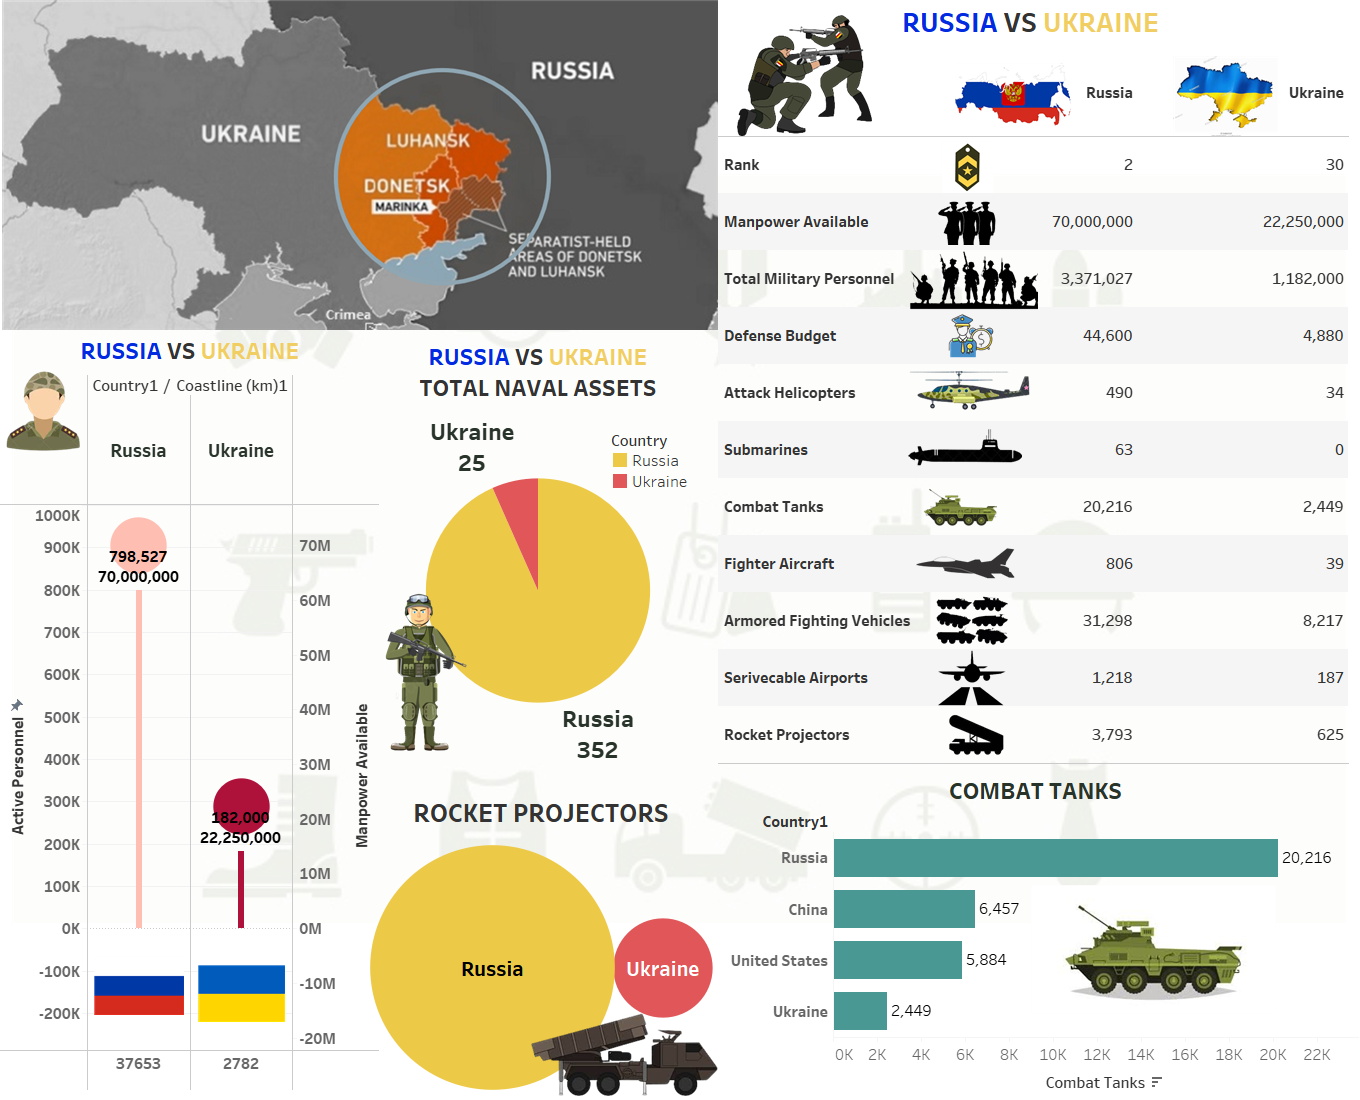

The dashboard page shown, as its layout file describes it:
{"tool":"tableau","page":{"name":"Dashboard 1","canvas":[1360,1100],"ordinal":0},"visuals":[{"type":"image","param":"C:/Users/Masood/Downloads/map russia vvs  ukraine.png","box":[1,0,718,330]},{"type":"image","param":"C:/Users/Masood/Downloads/Untitled design (4).png","box":[8,8,1344,1084]},{"type":"image","param":"C:/Users/Masood/Downloads/download__22_-removebg-preview.png","box":[721,15,167,121]},{"type":"image","param":"C:/Users/Masood/Downloads/images.png","box":[955,46,116,97]},{"type":"image","param":"C:/Users/Masood/Downloads/images (7).jpg","box":[1160,56,132,82]},{"type":"image","param":"C:/Users/Masood/Downloads/images (1).png","box":[941,134,52,66]},{"type":"image","param":"C:/Users/Masood/Downloads/images__2_-removebg-preview (1).png","box":[917,195,100,50]},{"type":"image","param":"C:/Users/Masood/Downloads/images__3_-removebg-preview (1).png","box":[900,248,148,64]},{"type":"image","param":"C:/Users/Masood/Downloads/images__10_-removebg-preview.png","box":[939,308,61,55]},{"type":"worksheet","title":"Sheet 2","mark":"Bar","rows":["Active Personnel","Manpower Available"],"cols":["Country","Coastline (km)"],"box":[0,328,380,763]},{"type":"worksheet","title":"Sheet 6","mark":"Pie","box":[360,334,356,434]},{"type":"image","param":"C:/Users/Masood/Downloads/download__13_-removebg-preview.png","box":[897,356,157,68]},{"type":"image","param":"C:/Users/Masood/Downloads/download__14_-removebg-preview.png","box":[888,390,155,114]},{"type":"legend","title":"Sheet 6","param":"[federated.0n6igrn1ufsuzo18ugr4a075xw0t].[none:Country:nk]","box":[610,428,112,64]},{"type":"image","param":"C:/Users/Masood/Downloads/images__8_-removebg-preview.png","box":[898,480,125,54]},{"type":"image","param":"C:/Users/Masood/Downloads/fighter-jet-icon-vector-on-260nw-[phone redacted]-removebg-p","box":[820,486,290,166]},{"type":"image","param":"C:/Users/Masood/Downloads/soldier-with-weapons-icon-cartoon-3247969-removebg-pre","box":[325,545,202,255]},{"type":"image","param":"C:/Users/Masood/Downloads/images__11_-removebg-preview.png","box":[868,594,209,53]},{"type":"image","param":"C:/Users/Masood/Downloads/images__4_-removebg-preview (1).png","box":[901,647,141,62]},{"type":"image","param":"C:/Users/Masood/Downloads/download__15_-removebg-preview.png","box":[906,704,140,61]},{"type":"worksheet","title":"Sheet 1","mark":"Automatic","rows":["Country"],"cols":["Combat Tanks"],"box":[713,768,645,332]},{"type":"worksheet","title":"Sheet 7","mark":"Circle","box":[369,789,344,308]},{"type":"image","param":"C:/Users/Masood/Downloads/images (8).jpg","box":[1031,834,245,231]},{"type":"image","param":"C:/Users/Masood/Downloads/download (12).png","box":[94,940,90,92]},{"type":"image","param":"C:/Users/Masood/Downloads/download (11).png","box":[198,949,87,89]}]}

Visuals, with their boxes in screenshot pixels (x1, y1, x2, y2), scaled from the page's 1360x1100 canvas onto the 1360x1100 screenshot:
image: [x1=1, y1=0, x2=719, y2=330]
image: [x1=8, y1=8, x2=1352, y2=1092]
image: [x1=721, y1=15, x2=888, y2=136]
image: [x1=955, y1=46, x2=1071, y2=143]
image: [x1=1160, y1=56, x2=1292, y2=138]
image: [x1=941, y1=134, x2=993, y2=200]
image: [x1=917, y1=195, x2=1017, y2=245]
image: [x1=900, y1=248, x2=1048, y2=312]
image: [x1=939, y1=308, x2=1000, y2=363]
"Sheet 2" worksheet (Bar marks): [x1=0, y1=328, x2=380, y2=1091]
"Sheet 6" worksheet (Pie marks): [x1=360, y1=334, x2=716, y2=768]
image: [x1=897, y1=356, x2=1054, y2=424]
image: [x1=888, y1=390, x2=1043, y2=504]
"Sheet 6" legend: [x1=610, y1=428, x2=722, y2=492]
image: [x1=898, y1=480, x2=1023, y2=534]
image: [x1=820, y1=486, x2=1110, y2=652]
image: [x1=325, y1=545, x2=527, y2=800]
image: [x1=868, y1=594, x2=1077, y2=647]
image: [x1=901, y1=647, x2=1042, y2=709]
image: [x1=906, y1=704, x2=1046, y2=765]
"Sheet 1" worksheet: [x1=713, y1=768, x2=1358, y2=1099]
"Sheet 7" worksheet (Circle marks): [x1=369, y1=789, x2=713, y2=1097]
image: [x1=1031, y1=834, x2=1276, y2=1065]
image: [x1=94, y1=940, x2=184, y2=1032]
image: [x1=198, y1=949, x2=285, y2=1038]
